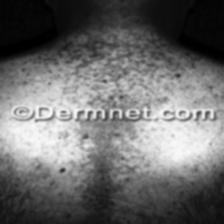Toxin: (66, 119, 146, 224)
